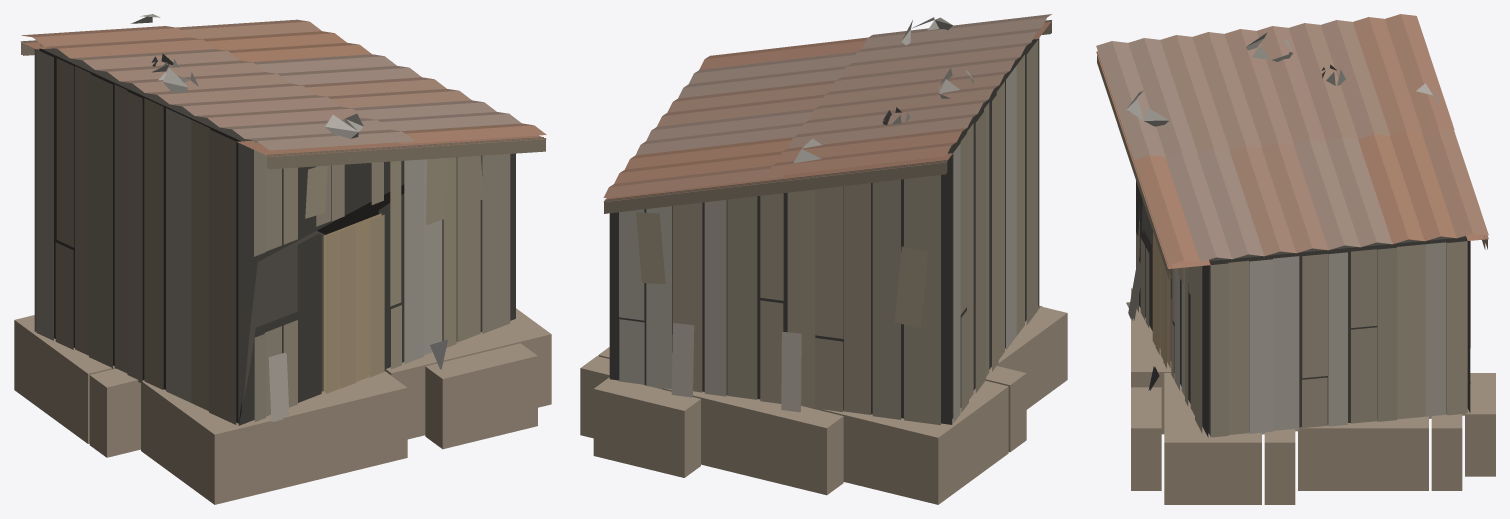
The model's file is house_11.lod.glb.
3 views of the same model, side by side, from view 1: azimuth 30°, elevation 25°; view 2: azimuth 150°, elevation 25°; view 3: azimuth 270°, elevation 25° (orthographic). The views are drawn at different scales.
Parts seen in each view (by area): view 1: house_11; view 2: house_11; view 3: house_11.
Boxes of the visible parts, x1,y1,x2,y2 form: house_11: (14, 14, 551, 504); house_11: (580, 14, 1067, 504); house_11: (1096, 14, 1495, 504).
Size of the model in its own units: 5.98 by 5.48 by 5.98.
